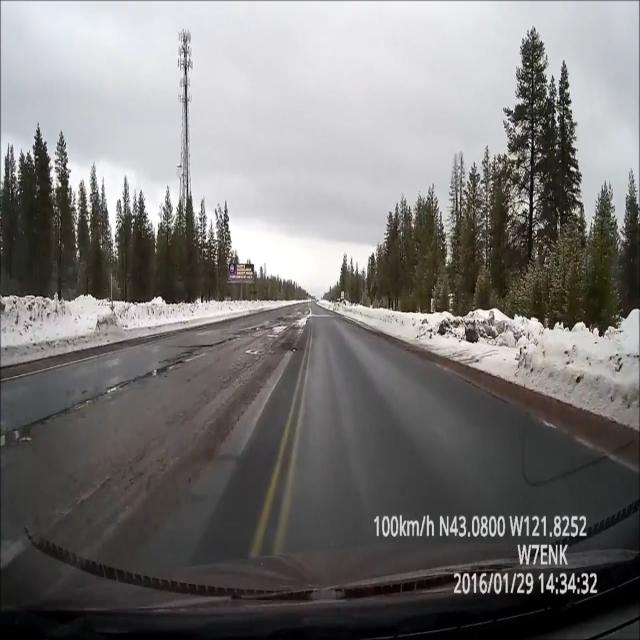Pothole: (30, 387, 130, 436), (138, 343, 213, 389)
